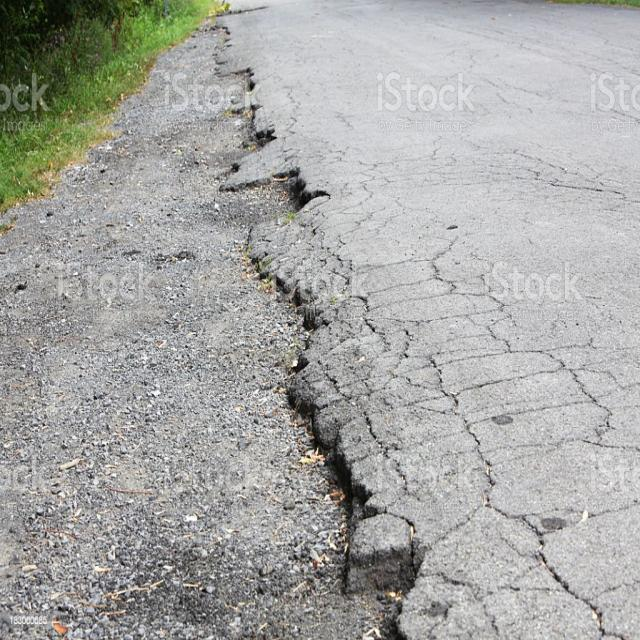Pothole: (137, 68, 508, 640)
